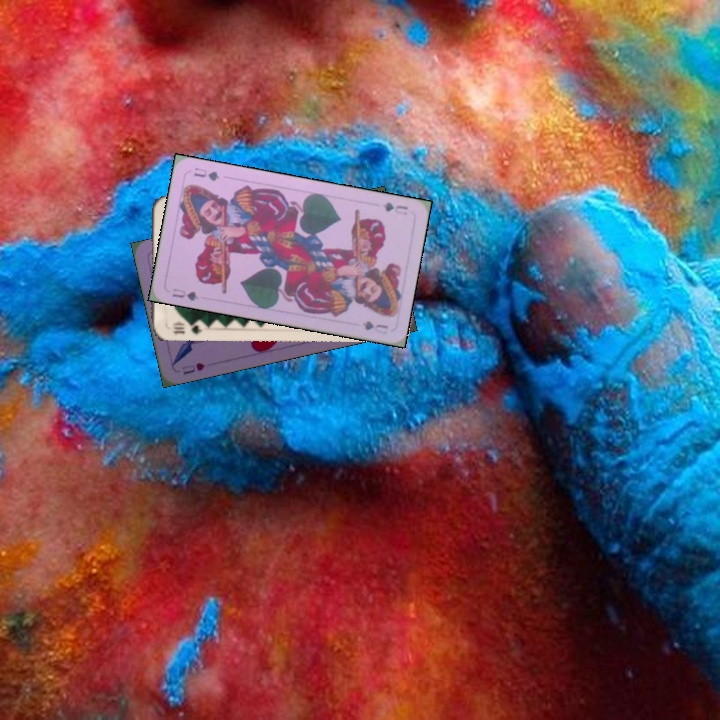G10: (169, 317, 204, 337)
GU: (168, 284, 201, 303), (379, 198, 410, 217)
HU: (178, 359, 207, 377)
